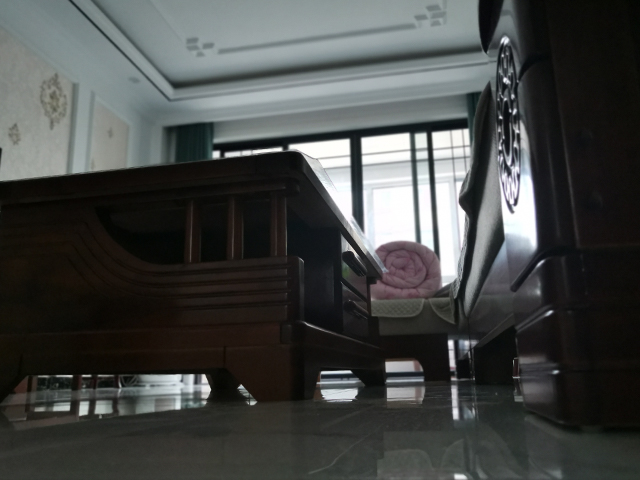sofa: (369, 1, 639, 436)
table: (1, 147, 389, 404)
